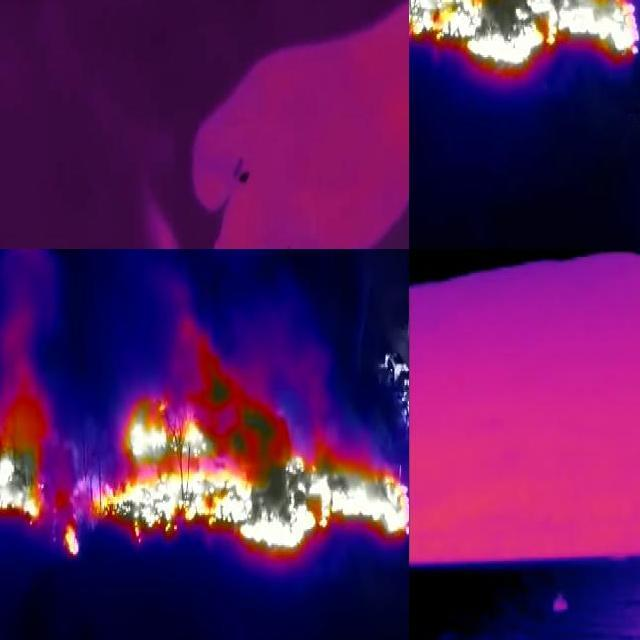fire: (62, 377, 410, 561), (410, 1, 640, 80), (1, 409, 48, 524)
